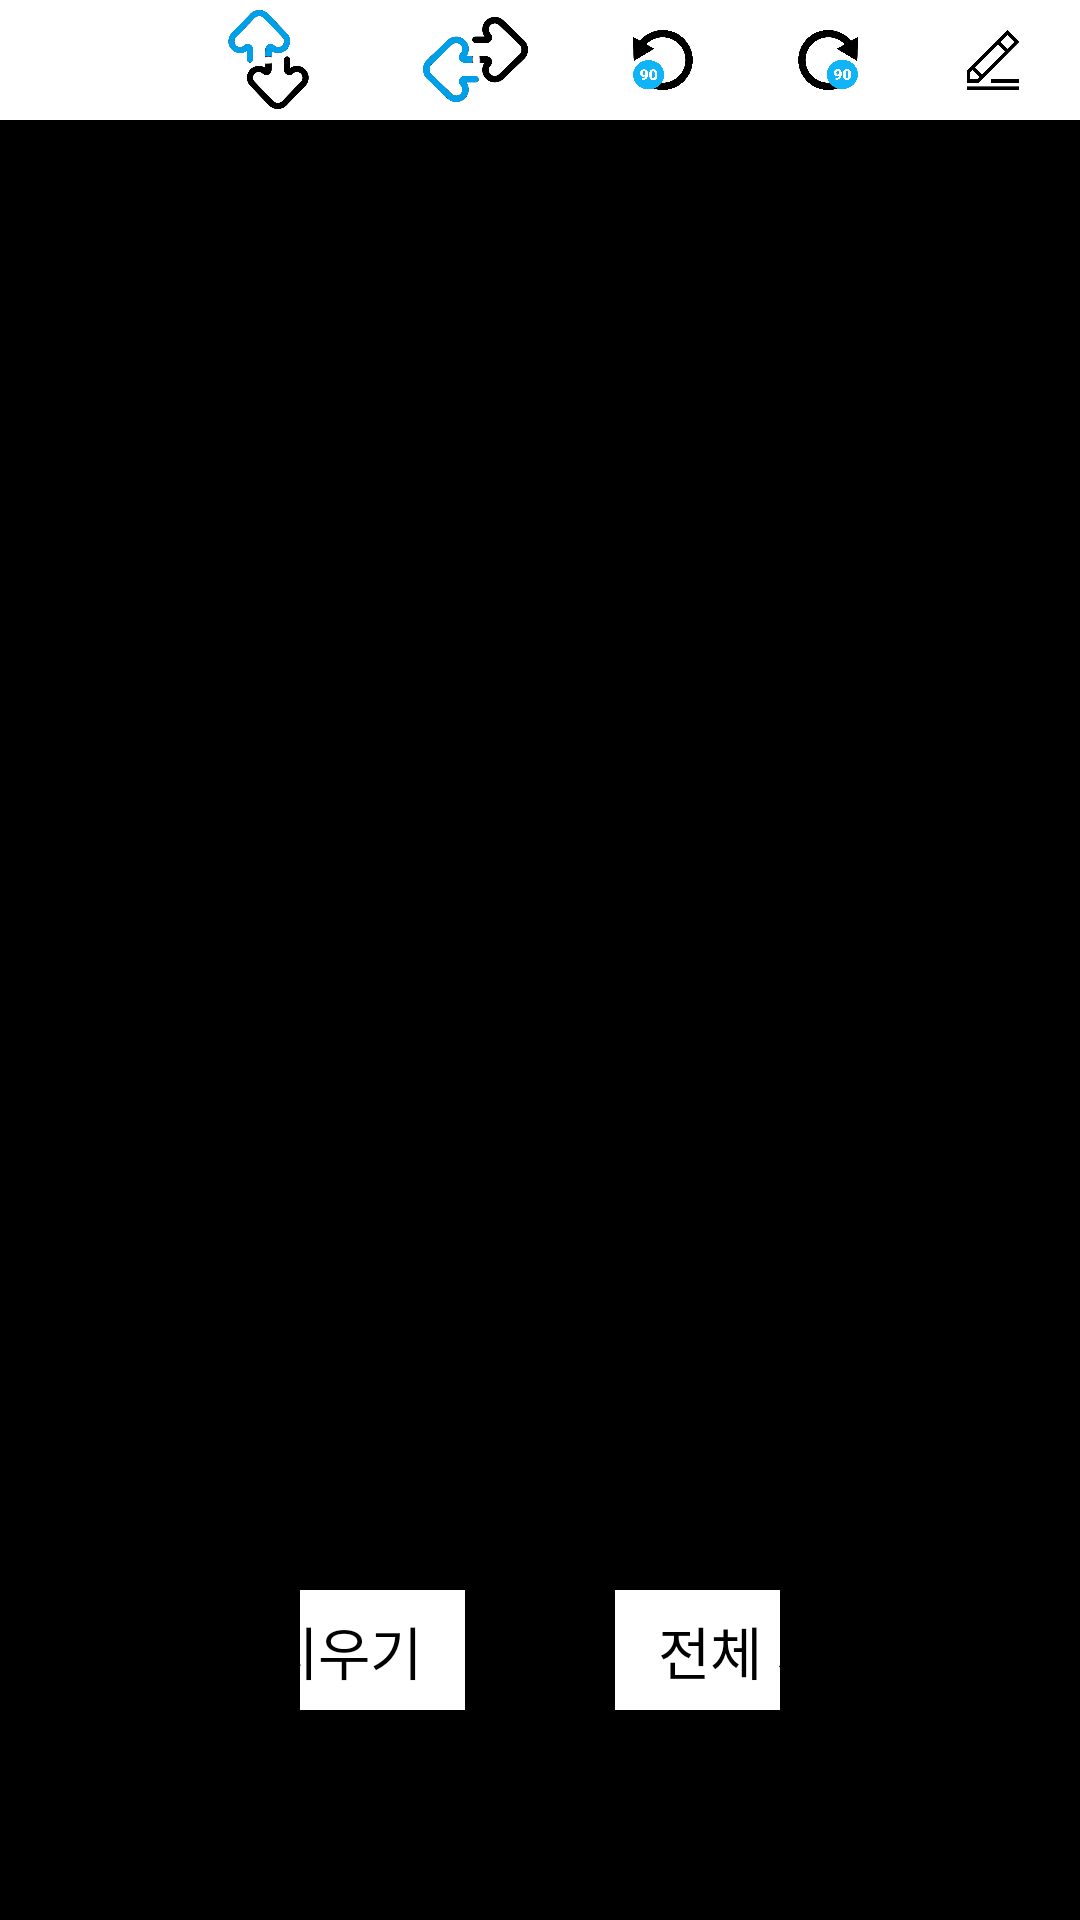

Where to tap for icons on this 1080px×1920px app screen, as (x,y):
left right: (475,59)
pen: (993,60)
rot: (663,60), (828,60)
up top: (268,59)
